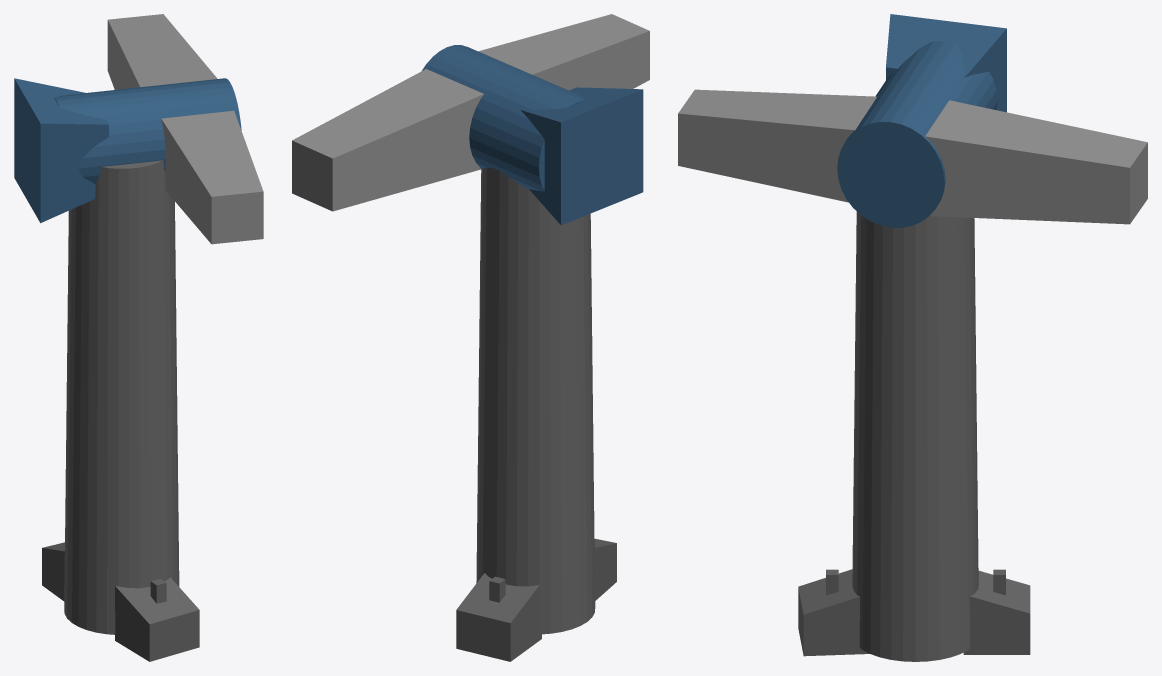
File: Turbine.fbx
The picture shows the model from 3 angles, left to right: view 1: azimuth 30°, elevation 25°; view 2: azimuth 150°, elevation 25°; view 3: azimuth 270°, elevation 25°; orthographic projection. The views are drawn at different scales.
Visible parts, largest first — view 1: Pole, Turbine Arm 1, back, Middle node, Turbine Arm 2, stands, Stands; view 2: Pole, Turbine Arm 2, back, Middle node, Turbine Arm 1, Stands, stands; view 3: Pole, Turbine Arm 2, Middle node, Turbine Arm 1, back, stands, Stands.
Part boxes in pixels (x1,y1,x2,y2): Pole: (64, 160, 179, 634); Turbine Arm 1: (161, 110, 263, 244); back: (14, 78, 108, 223); Middle node: (54, 78, 241, 183); Turbine Arm 2: (107, 14, 217, 89); stands: (115, 577, 199, 661); Stands: (42, 542, 64, 601); Pole: (476, 167, 595, 634); Turbine Arm 2: (292, 69, 483, 211); back: (520, 87, 643, 225); Middle node: (422, 45, 584, 191); Turbine Arm 1: (478, 14, 649, 90); Stands: (456, 573, 541, 661); stands: (594, 538, 616, 600); Pole: (852, 211, 978, 661); Turbine Arm 2: (925, 100, 1147, 224); Middle node: (837, 41, 997, 227); Turbine Arm 1: (678, 89, 876, 202); back: (886, 14, 1006, 112); stands: (798, 569, 869, 656); Stands: (963, 570, 1030, 654).
Size of the model in its own units: 54.15 by 117 by 86.3.
